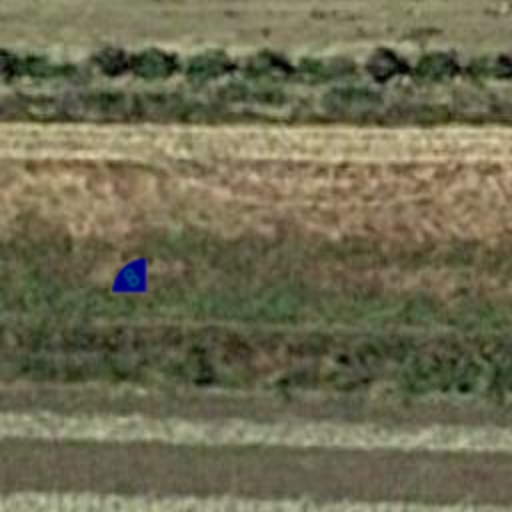quarter_circle: (98, 244, 166, 312)
